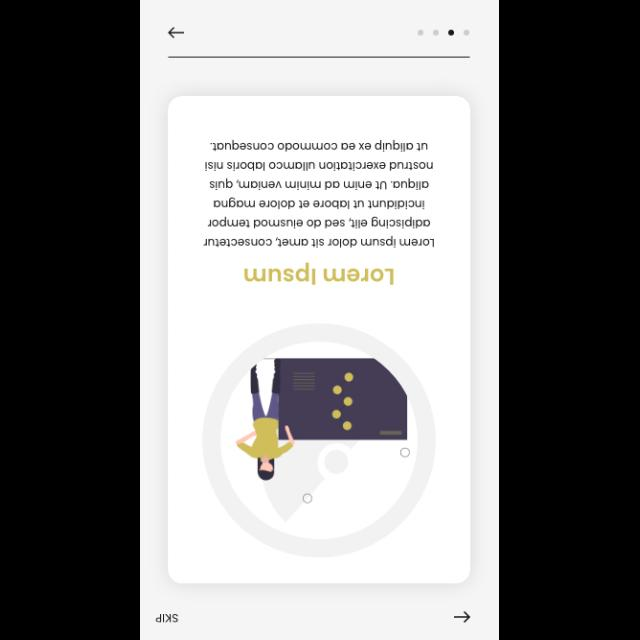icon: (168, 26, 185, 40), (454, 610, 472, 622)
image: (202, 322, 436, 558)
pageindicator: (416, 29, 469, 37)
panel: (166, 96, 472, 584)
text: (203, 140, 434, 248), (244, 261, 396, 285), (156, 612, 178, 622)
